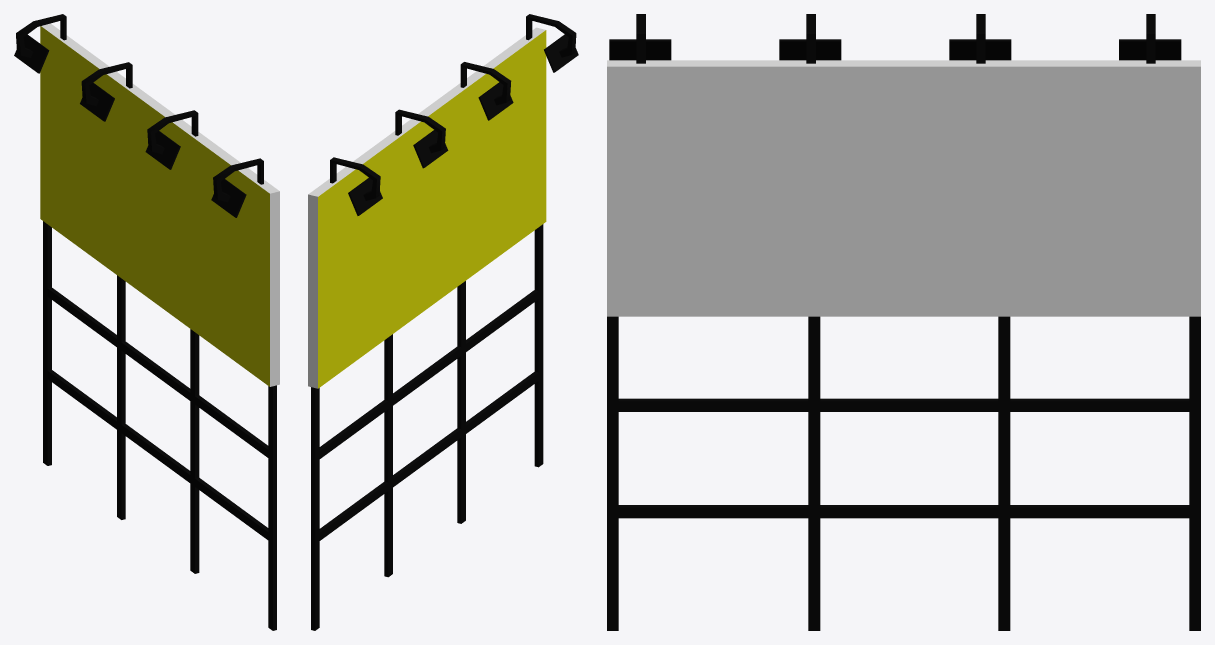
Rendered from Billboard_2.fbx.
3 views of the same model, side by side, from view 1: azimuth 30°, elevation 25°; view 2: azimuth 150°, elevation 25°; view 3: azimuth 270°, elevation 25° (orthographic). The views are drawn at different scales.
Visible parts, largest first — view 1: polySurface7; view 2: polySurface7; view 3: polySurface7.
Boxes of the visible parts, x1,y1,x2,y2 form: polySurface7: [14, 14, 279, 630]; polySurface7: [308, 14, 578, 630]; polySurface7: [607, 14, 1200, 630].
Bounding box in the file's own units: 26.87 × 228 × 206.
